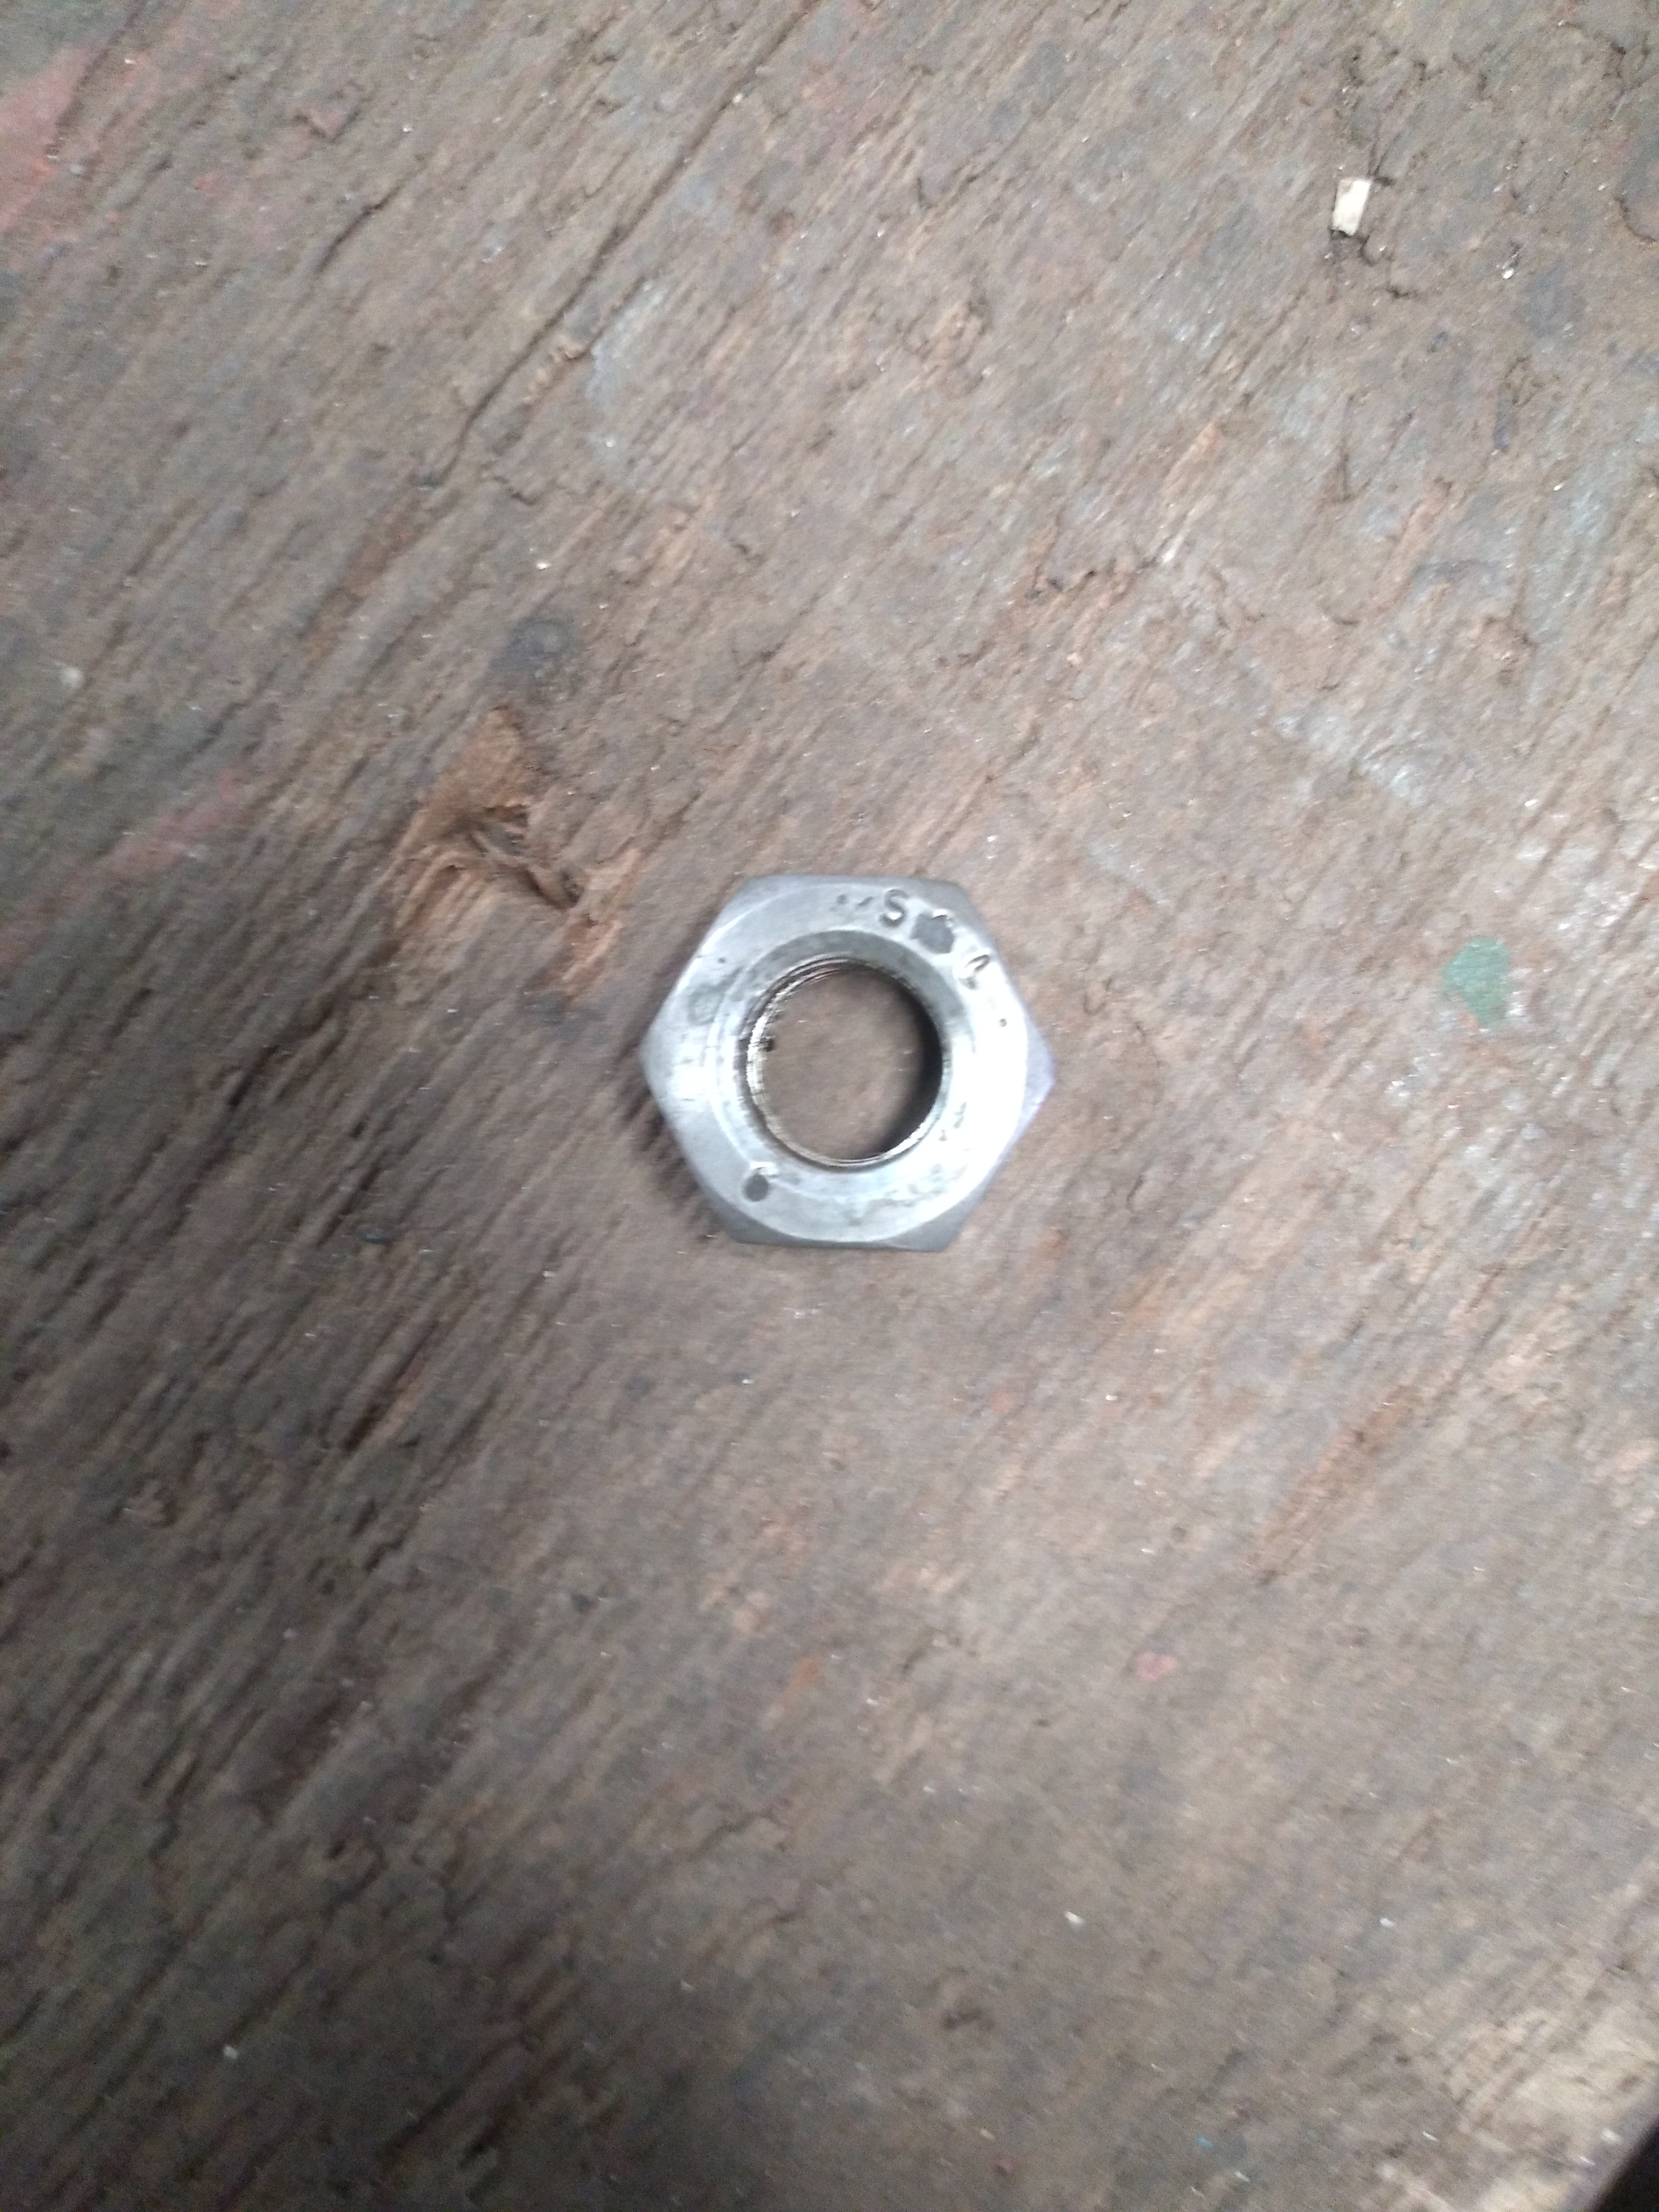Thread: (706, 939, 978, 1179)
